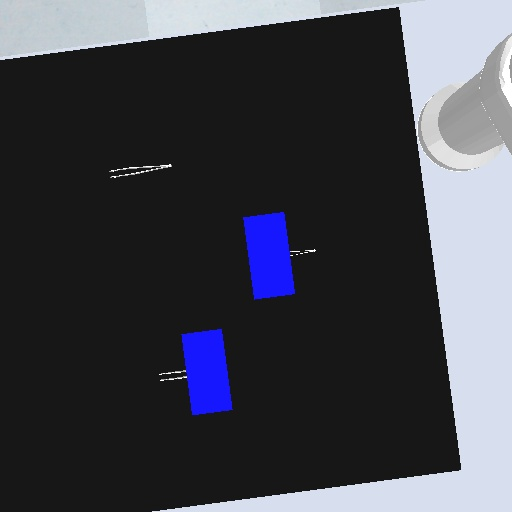pinza: (106, 162, 174, 180), (157, 368, 189, 384), (288, 247, 319, 260)
